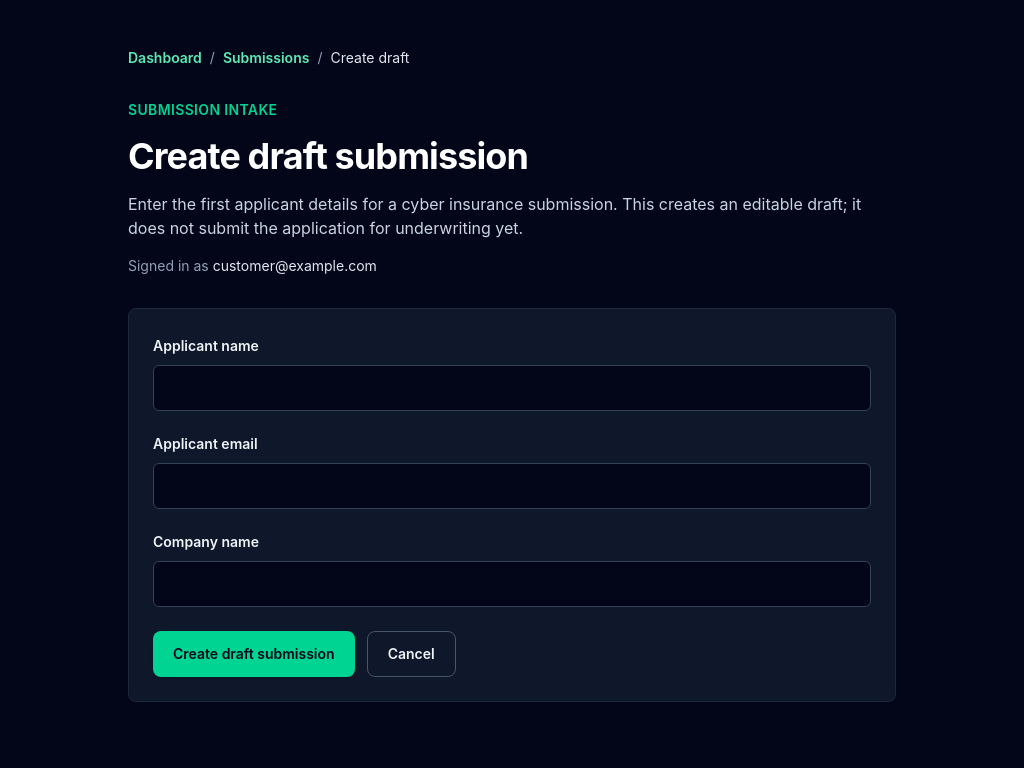
it: NewSubmissionPage › shows friendly inline validation errors for required fields and invalid email
The width and height of the screenshot is (1024, 768).
In the field labelled "Applicant email": [512, 486] box [153, 463, 871, 509], type "not-an-email"
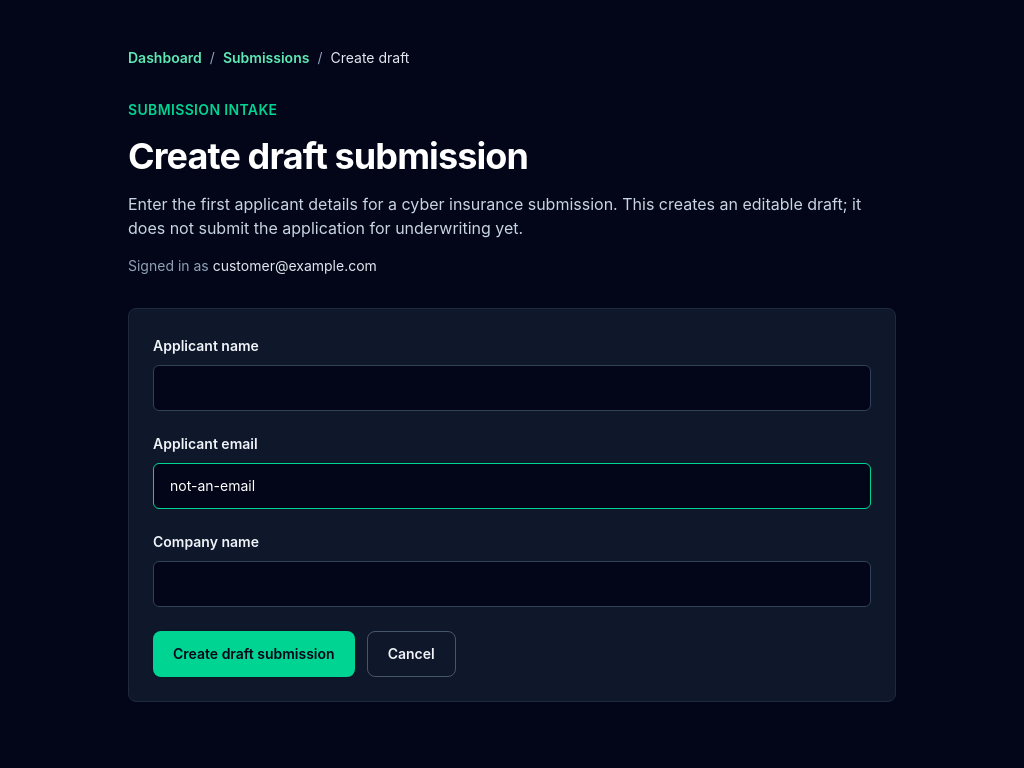
Click the button "Create draft submission": [254, 654] box [153, 631, 355, 677]
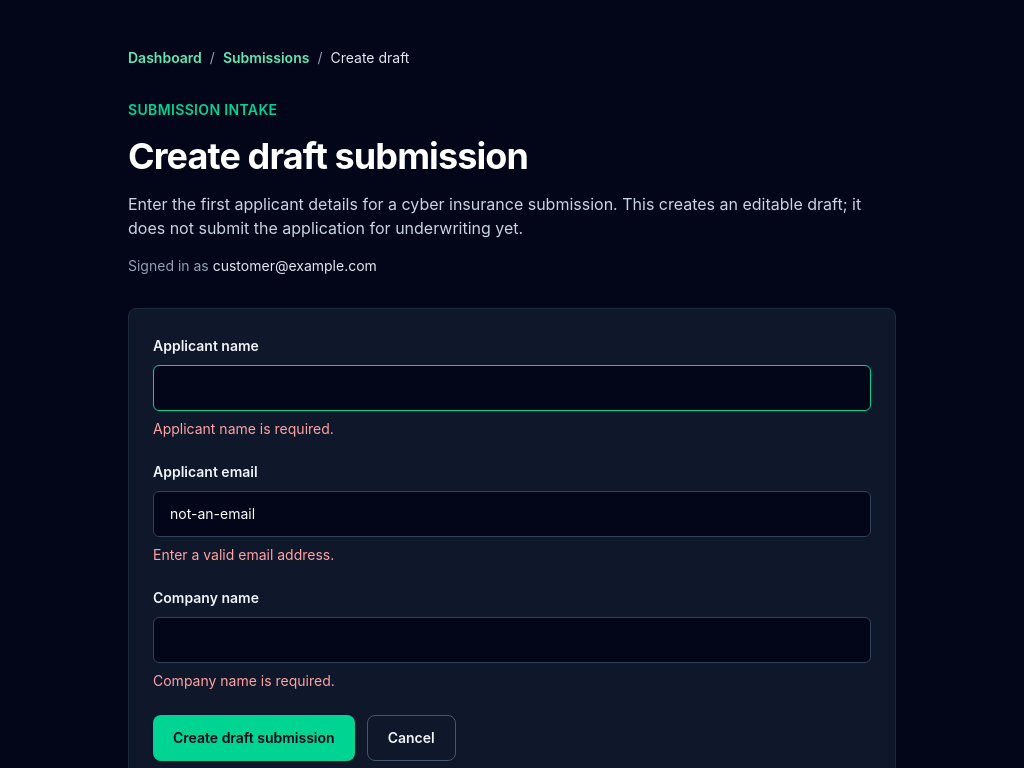
Now the text "Applicant name is required." is shown, box [153, 420, 334, 437]
Now the text "Enter a valid email address." is shown, box [153, 546, 334, 563]
Now the text "Company name is required." is shown, box [153, 672, 335, 689]
